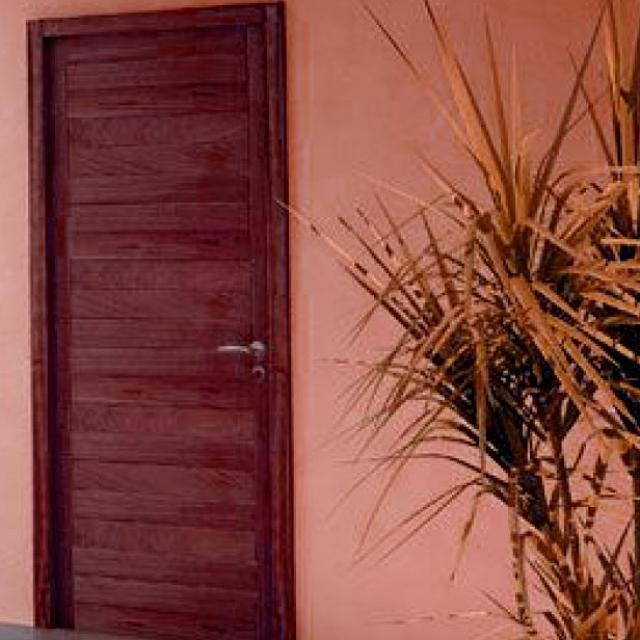door: (27, 1, 296, 639)
